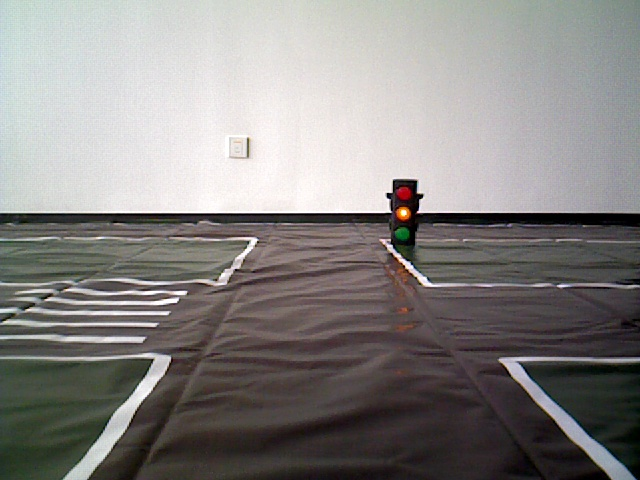yellow: (386, 178, 416, 247)
